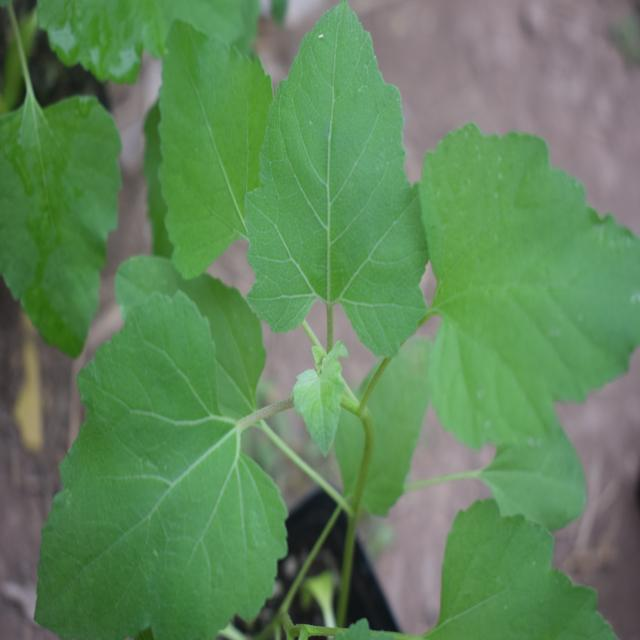cocklebur: (12, 42, 615, 568)
